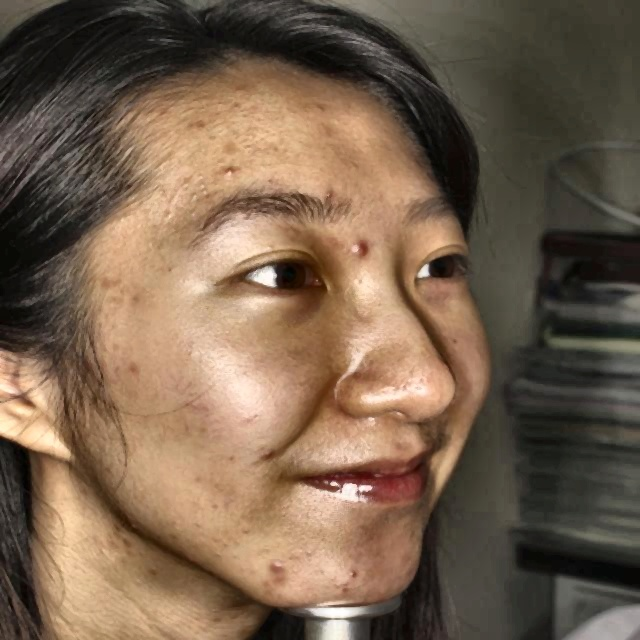pustule: (213, 160, 253, 190), (399, 550, 424, 587), (329, 574, 356, 603), (309, 90, 336, 116), (126, 353, 147, 384), (267, 554, 292, 576), (317, 185, 346, 201), (273, 574, 294, 593), (350, 235, 363, 258)
